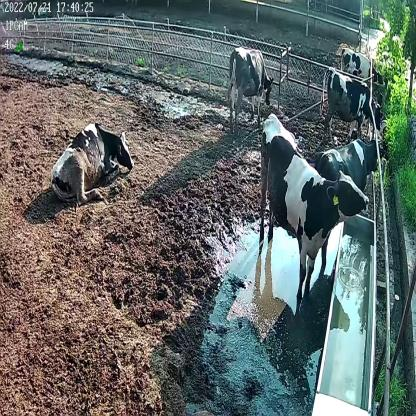cow: (257, 112, 371, 304), (49, 120, 135, 209), (321, 69, 384, 144), (226, 47, 274, 139), (338, 45, 390, 89)
